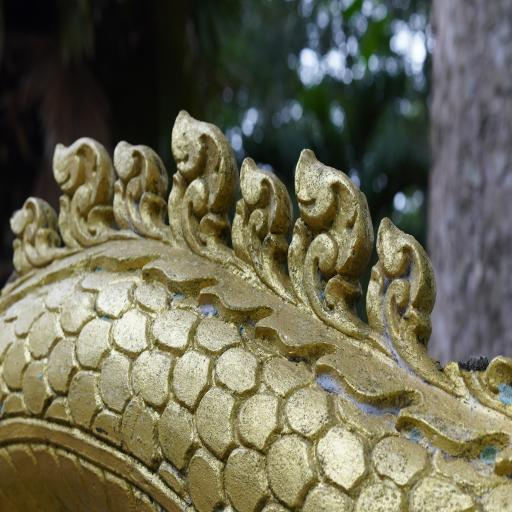la: (278, 140, 365, 332), (362, 195, 444, 379), (152, 102, 238, 258), (219, 137, 295, 306), (110, 128, 172, 264), (50, 120, 115, 248), (8, 176, 64, 272)
